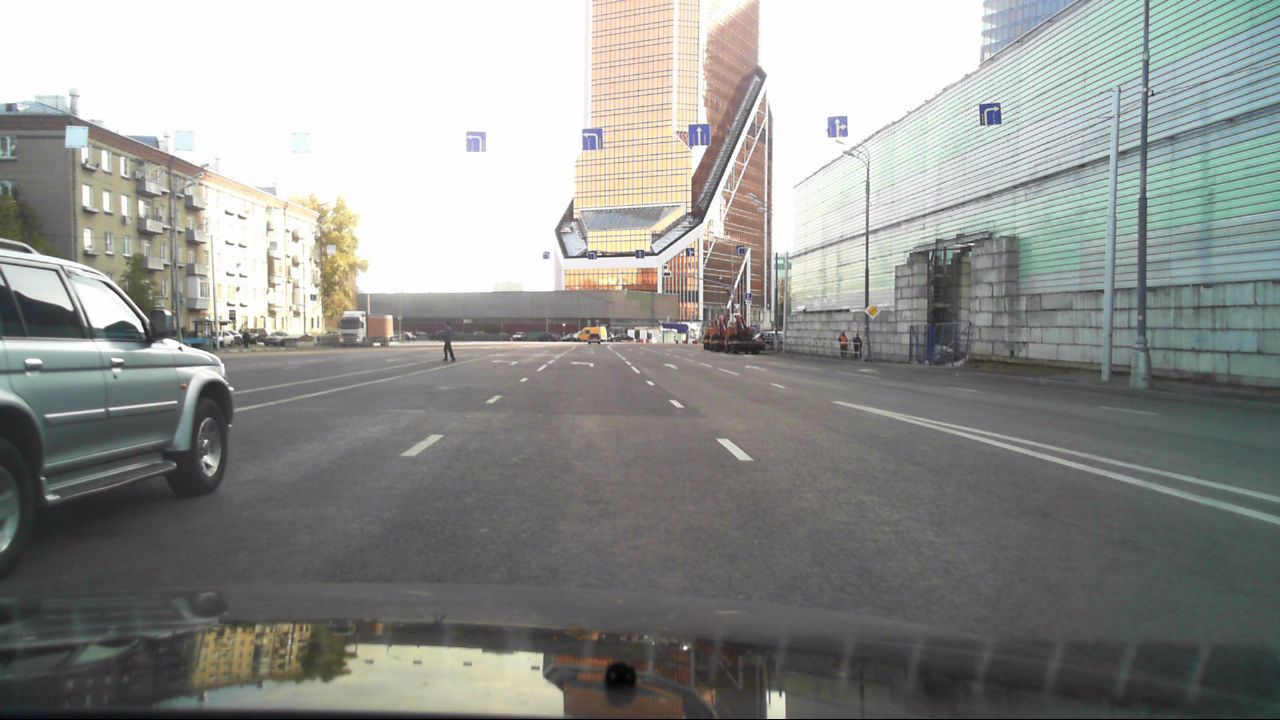main road: (864, 302, 881, 320)
